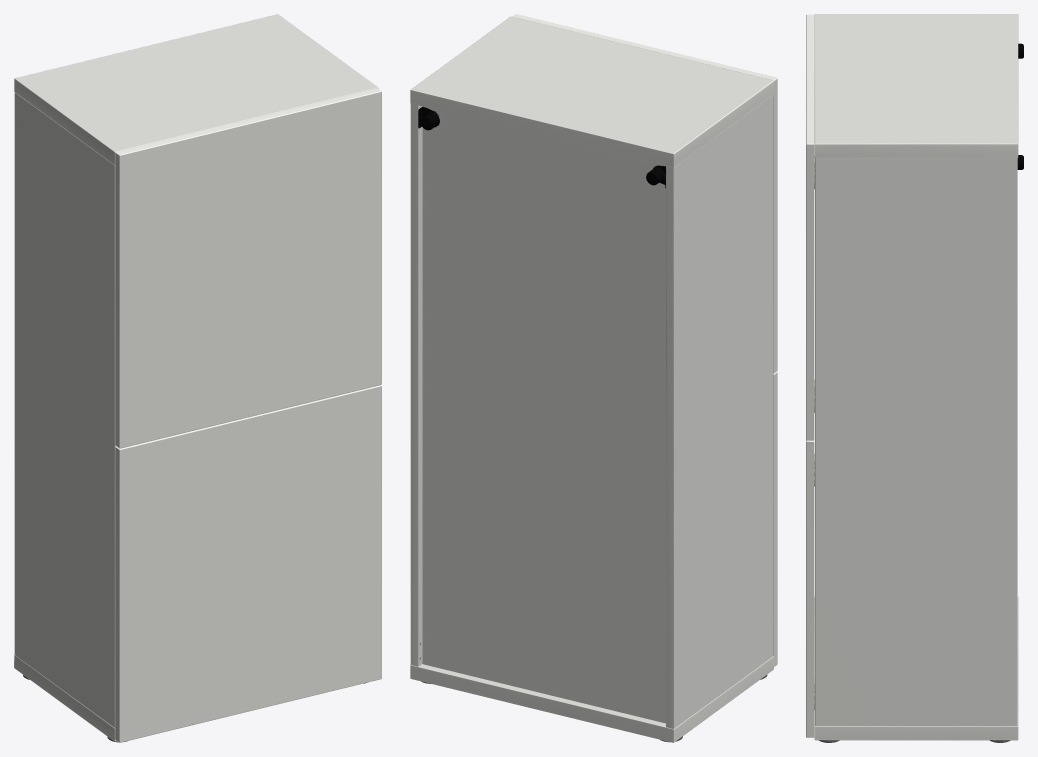
File: besta_szafka_z_drzwiczkami_69429706.glb
3 renders of one model, left to right at view 1: azimuth 30°, elevation 25°; view 2: azimuth 150°, elevation 25°; view 3: azimuth 270°, elevation 25°, orthographic.
Parts seen in each view (by area): view 1: besta_szafka_z_drzwiczkami_69429706; view 2: besta_szafka_z_drzwiczkami_69429706; view 3: besta_szafka_z_drzwiczkami_69429706.
Part boxes in pixels (box(x1,y1,x2,y2)): besta_szafka_z_drzwiczkami_69429706: box(14, 14, 381, 742); besta_szafka_z_drzwiczkami_69429706: box(410, 14, 777, 742); besta_szafka_z_drzwiczkami_69429706: box(806, 14, 1023, 742).
Bounding box in the file's own units: 0.6 × 1.29 × 0.4237.
1 material, 1 textured.
